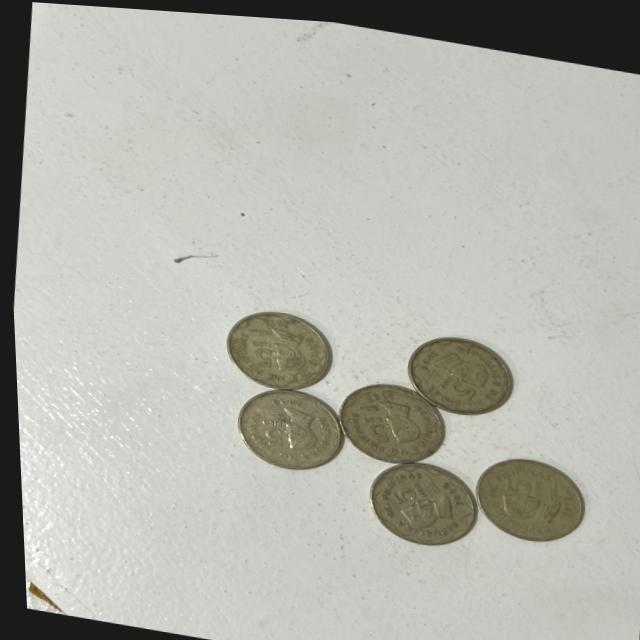5_Old_Front: (425, 363, 478, 404), (351, 406, 397, 447), (494, 462, 545, 496), (378, 469, 426, 503), (241, 328, 281, 368), (246, 410, 287, 447)
